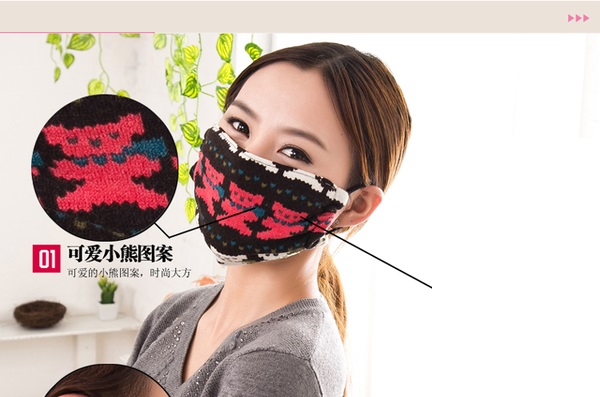face_mask: (193, 68, 351, 260)
